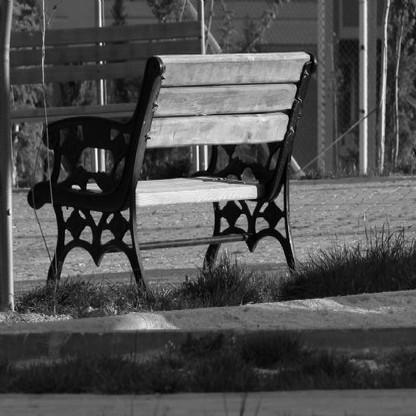obstacle: (27, 32, 325, 299)
